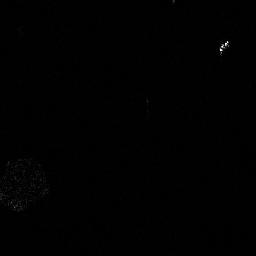ship: (218, 39, 230, 53)
